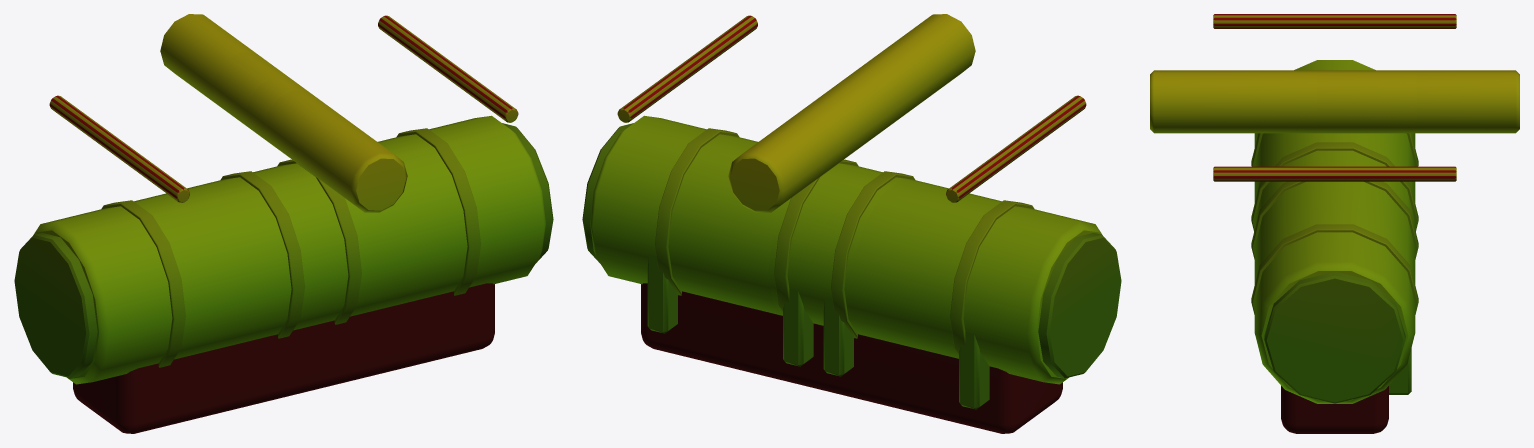
File: RCLModule_salvage_hauler_minefield_ordnance_carrier.fbx
3 renders of one model, left to right at view 1: azimuth 30°, elevation 25°; view 2: azimuth 150°, elevation 25°; view 3: azimuth 270°, elevation 25°, orthographic. The views are drawn at different scales.
Visible parts, largest first — view 1: RCLModule_salvage_hauler_minefield_ordnance_carrier_Batch_RC (×3); view 2: RCLModule_salvage_hauler_minefield_ordnance_carrier_Batch_RC (×3); view 3: RCLModule_salvage_hauler_minefield_ordnance_carrier_Batch_RC (×3).
Boxes of the visible parts, bbox=[...] form: RCLModule_salvage_hauler_minefield_ordnance_carrier_Batch_RC (×3): bbox=[14, 14, 553, 433]; RCLModule_salvage_hauler_minefield_ordnance_carrier_Batch_RC (×3): bbox=[582, 14, 1121, 433]; RCLModule_salvage_hauler_minefield_ordnance_carrier_Batch_RC (×3): bbox=[1150, 14, 1519, 433].
Size of the model in its own units: 114 by 68.04 by 82.
